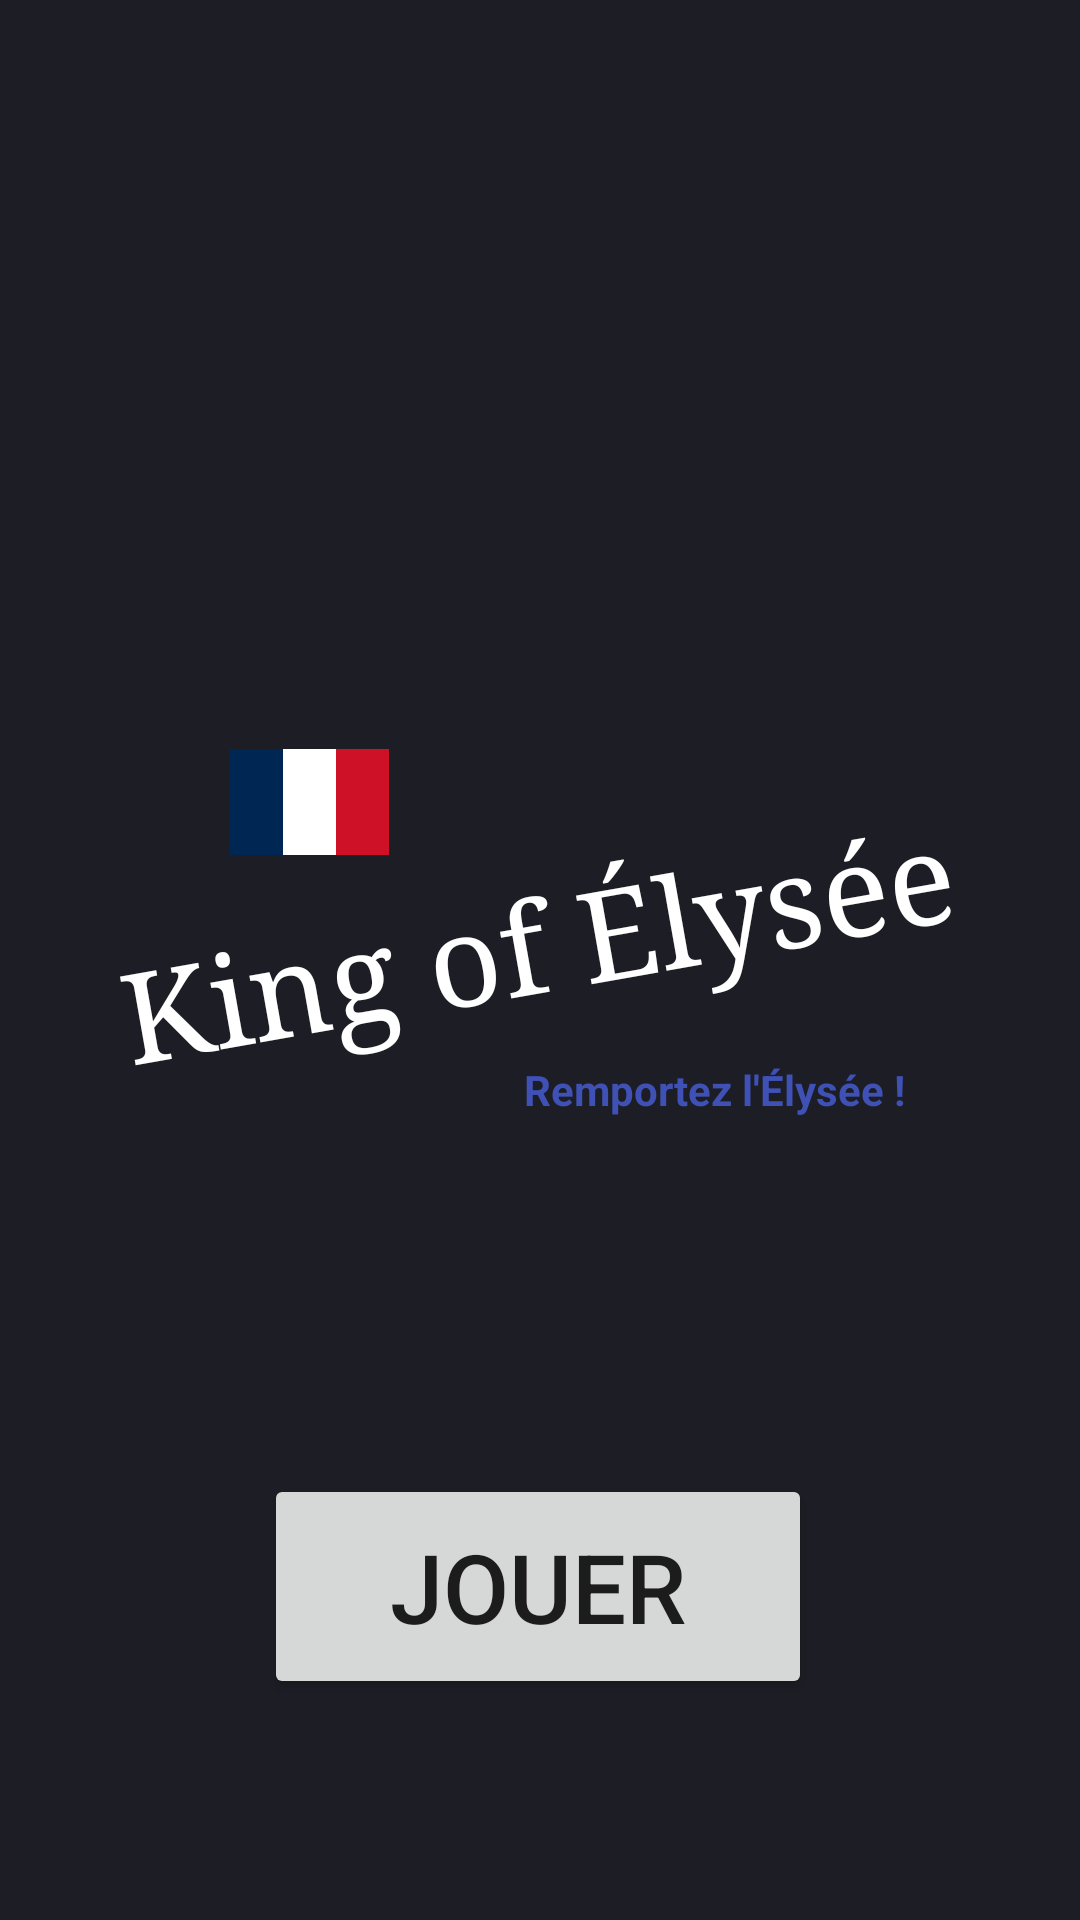

Screen size 1080*1920. Icon name, then its center in pixels as (x,y):
flag france: (309,802)
